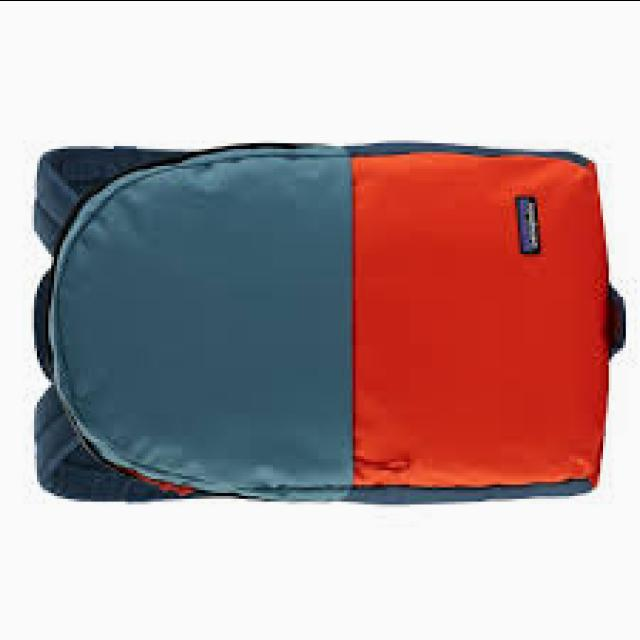backpack: (29, 144, 627, 508)
